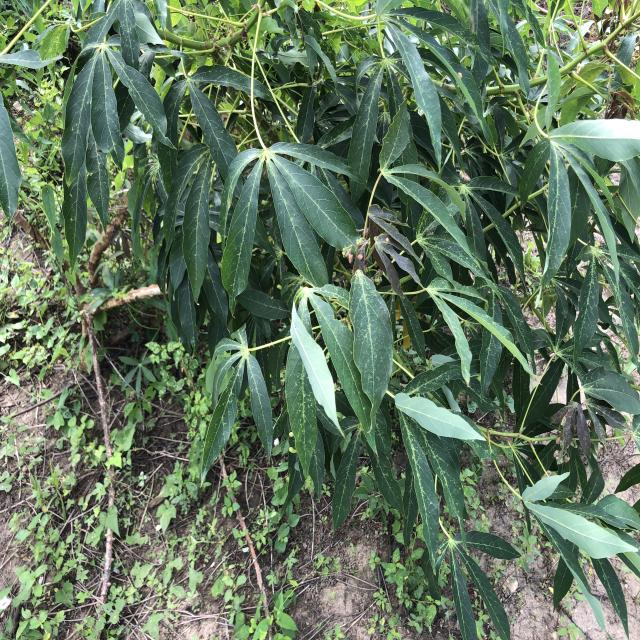Mosca: (277, 421, 308, 468), (391, 465, 424, 492), (253, 189, 275, 219), (258, 269, 285, 292)
